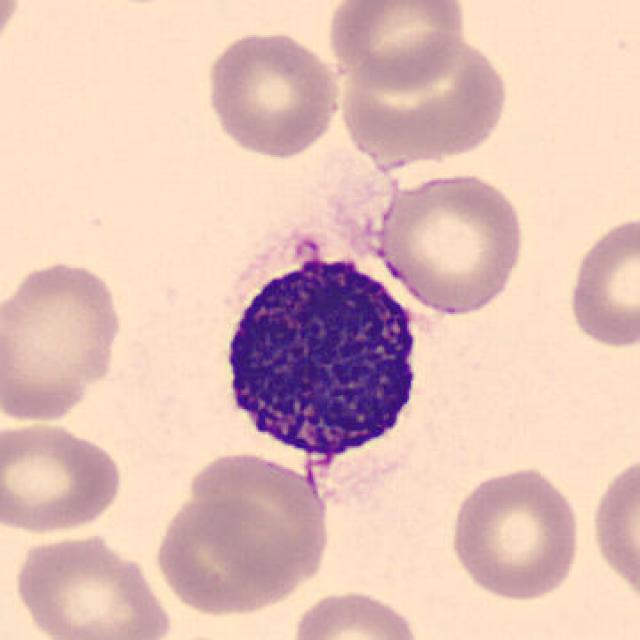Basophil: (208, 222, 430, 476)
RBC: (334, 30, 514, 167), (372, 168, 528, 318), (182, 446, 334, 591), (0, 256, 126, 425), (446, 460, 585, 605), (151, 490, 304, 619), (201, 26, 345, 160), (9, 529, 176, 640), (0, 418, 126, 538), (322, 0, 469, 90), (562, 210, 638, 352), (587, 448, 638, 613), (286, 585, 425, 640), (0, 0, 25, 65)
